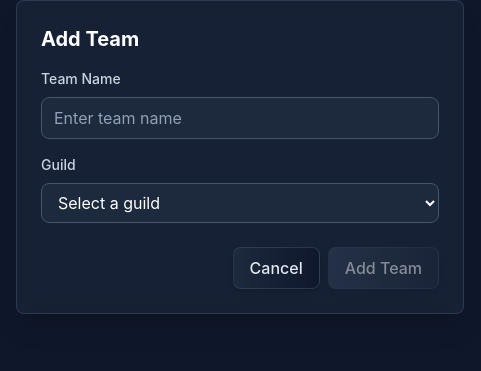
Test: TeamForm › Form Validation › clears validation errors when form becomes valid
Submit the form with test id "team-form-submit", box [41, 25, 439, 289]
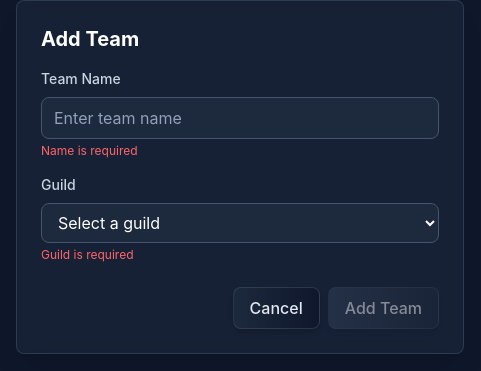
Expected: the text "Name is required" is shown, [41, 143, 138, 158]
Expected: the text "Guild is required" is shown, [41, 247, 134, 262]
// Fill form to make it valid
Type "Test Team" into the field labelled "Team Name" at point(240, 118), box [41, 97, 439, 139]
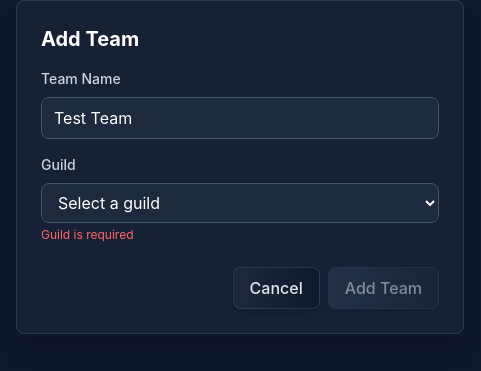
Select "Test Guild 1" in the dropdown labelled "Guild" at point(240, 203), box [41, 183, 439, 223]
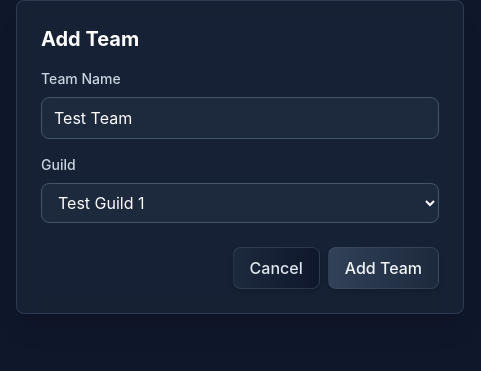
Expected: the text "Name is required" is not shown
Expected: the text "Guild is required" is gone
